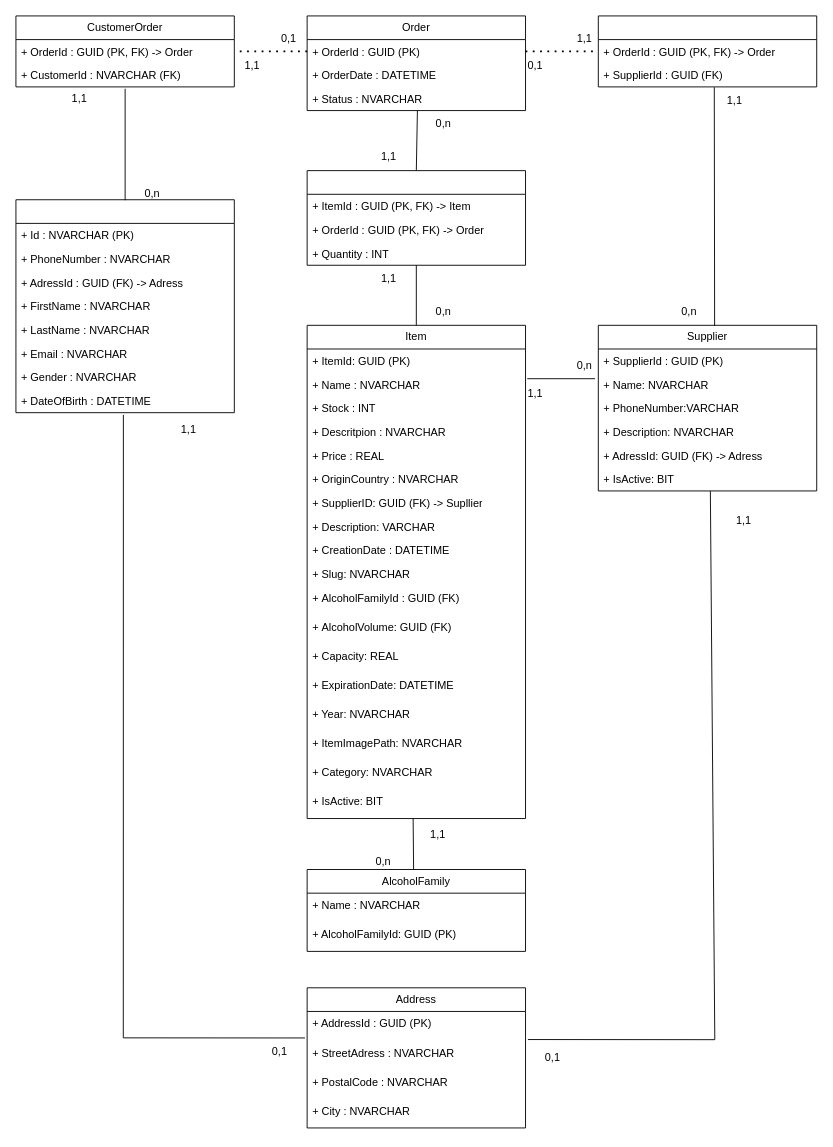
Image size: 833x1147. Some labels were removed from this diagram. The box of each missing label's shape, as (x1, y1, x2, y2) in pixels:
Customer: (15, 199, 234, 413)
OrderDetail: (306, 170, 526, 265)
SupplierOrder: (597, 15, 817, 87)
